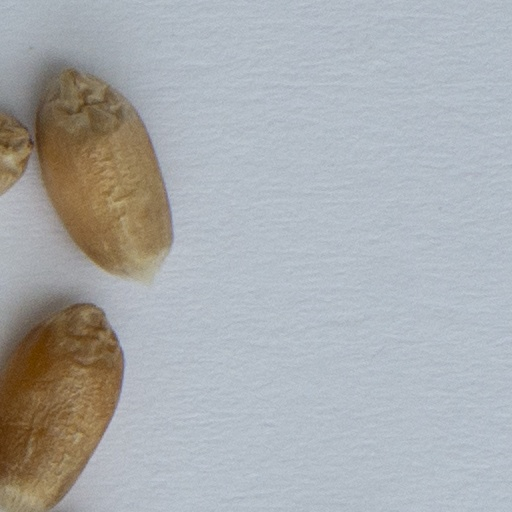Wheat-grain-poly: (35, 64, 176, 284), (0, 299, 124, 511), (0, 107, 34, 195)
